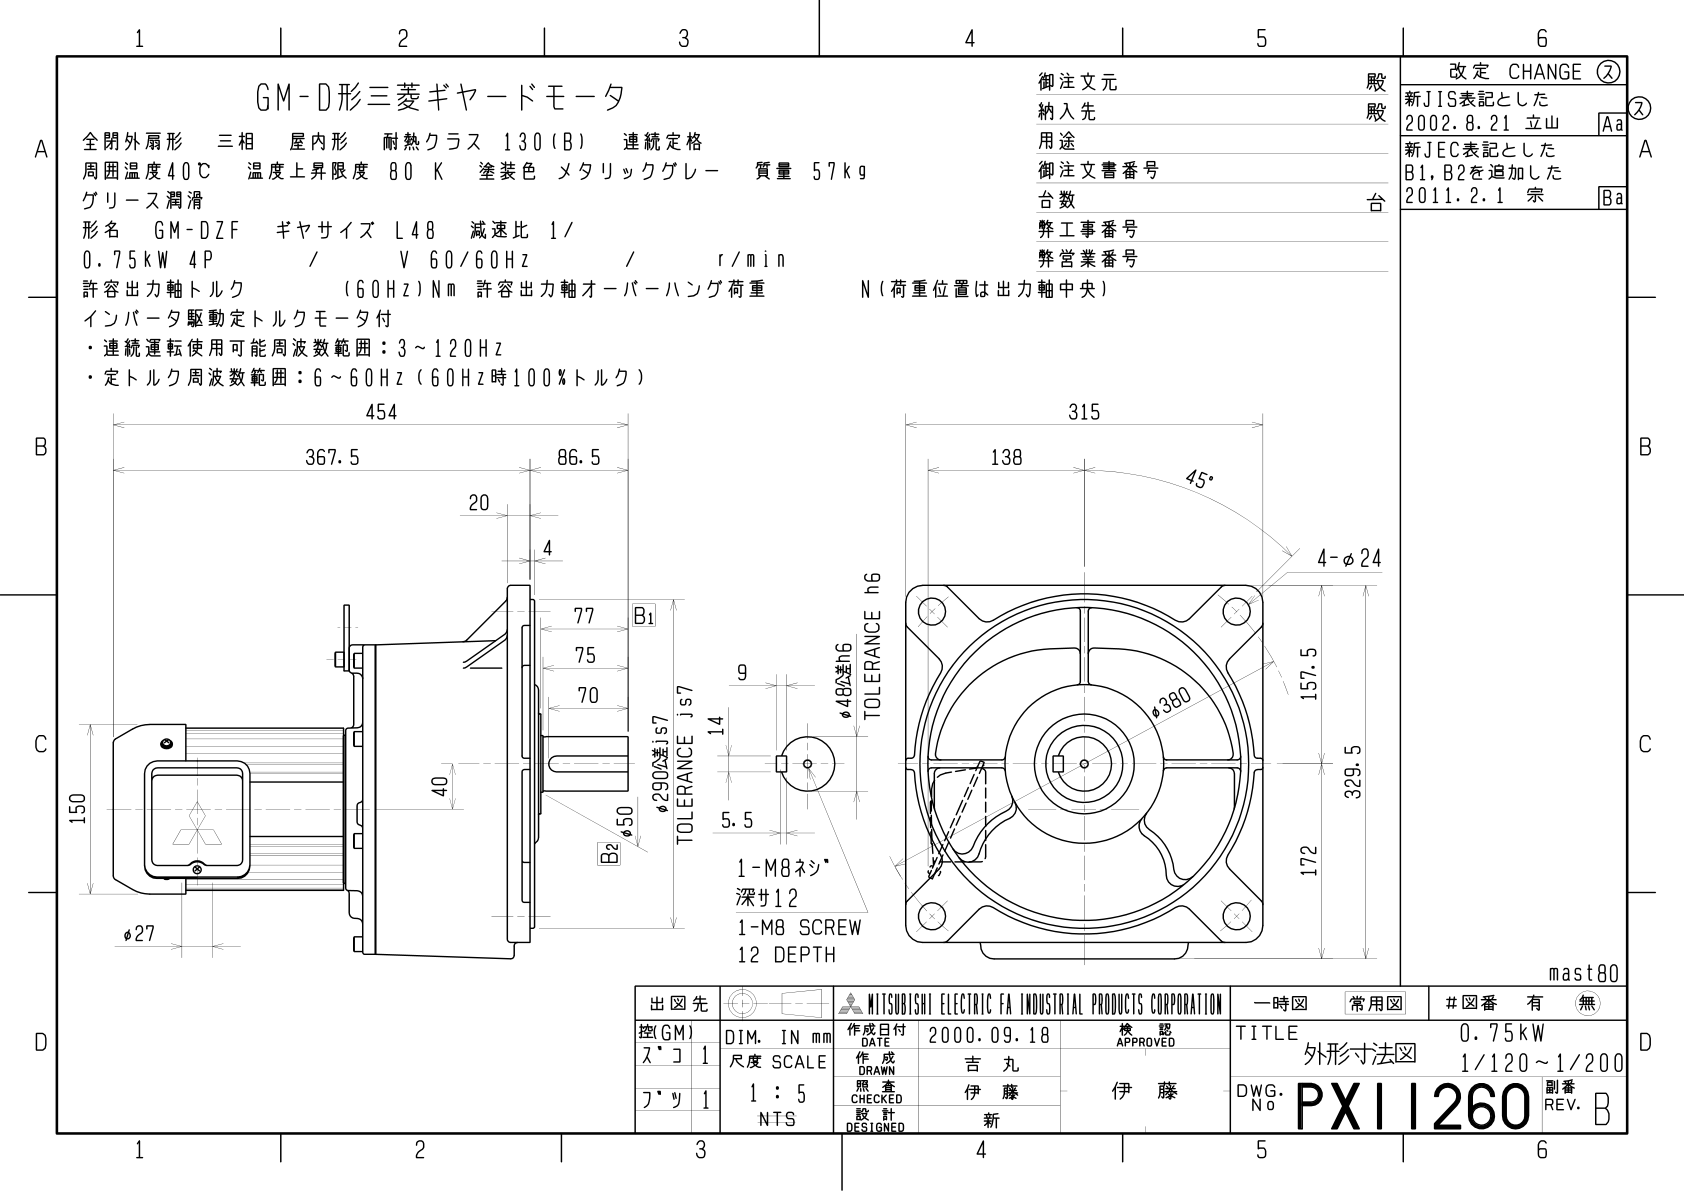GM_D_インバータ屋内_三相_フランジ: (63, 392, 1392, 971)
